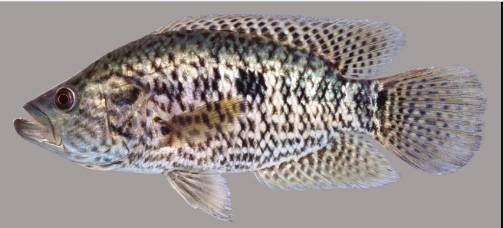Jaguar Gapote: (14, 13, 487, 223)
